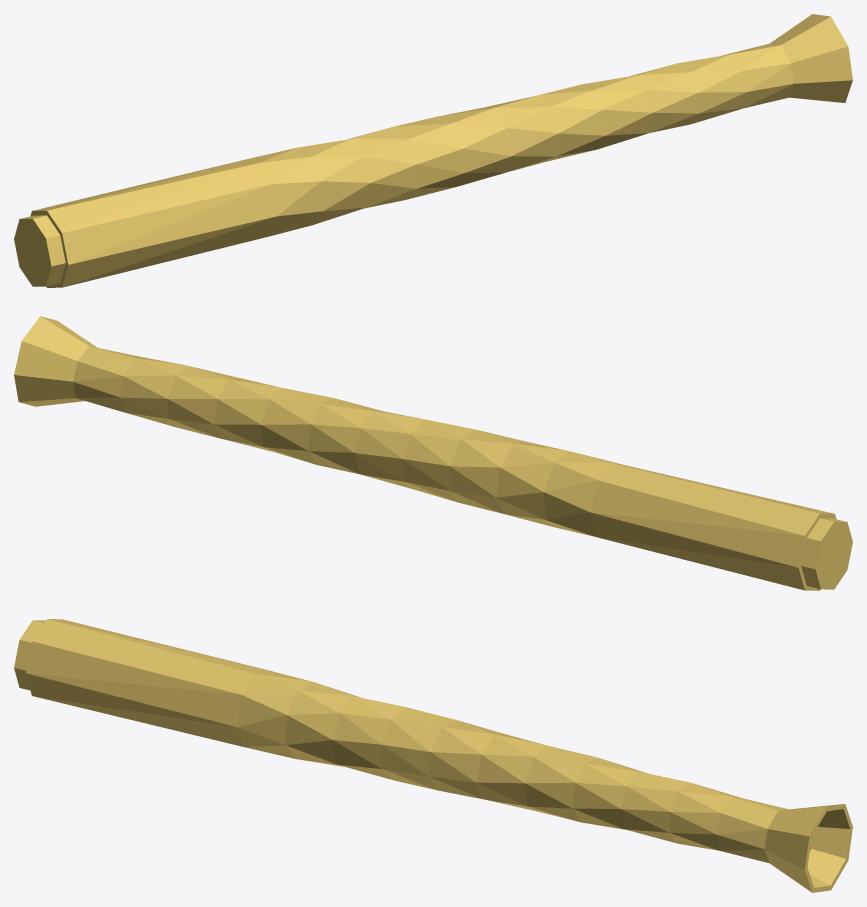
File: only barrel.fbx
3 renders of one model, top to bottom at view 1: azimuth 30°, elevation 25°; view 2: azimuth 150°, elevation 25°; view 3: azimuth 330°, elevation 25°, orthographic.
Visible parts, largest first — view 1: barrel, breach; view 2: barrel, breach; view 3: barrel, breach.
Part boxes in pixels (x1,y1,x2,y2): barrel: [30, 14, 852, 287]; breach: [14, 215, 65, 286]; barrel: [14, 316, 836, 590]; breach: [801, 518, 852, 589]; barrel: [25, 619, 852, 892]; breach: [14, 620, 45, 690].
Bounding box in the file's own units: 117 × 12.24 × 12.24.
